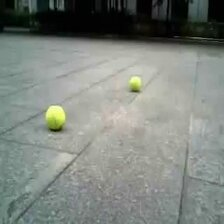tennis: (46, 105, 65, 128), (129, 76, 142, 90)
